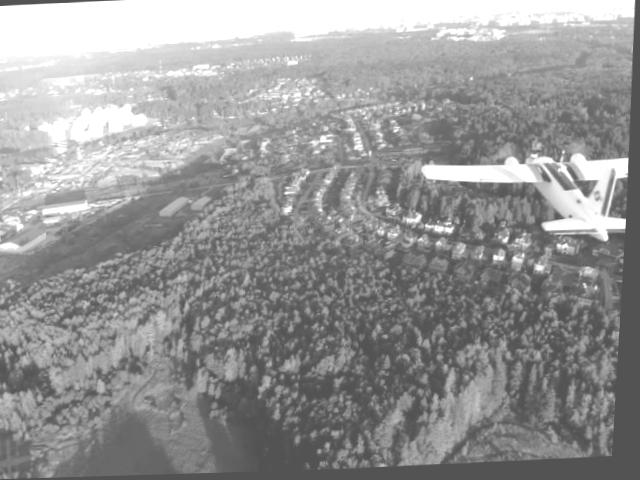hedef: (415, 139, 633, 244)
